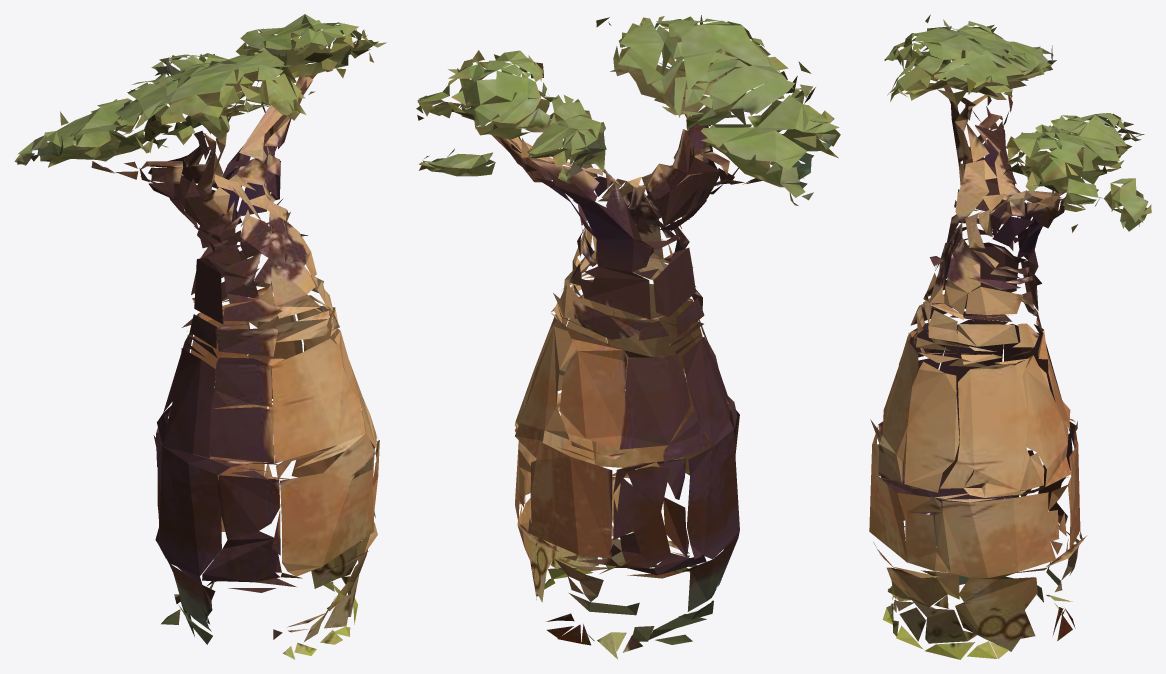
The model's file is tree_baobab.glb.
The picture shows the model from 3 angles, left to right: view 1: azimuth 30°, elevation 25°; view 2: azimuth 150°, elevation 25°; view 3: azimuth 270°, elevation 25°; orthographic projection. The views are drawn at different scales.
Parts seen in each view (by area): view 1: geometry_0; view 2: geometry_0; view 3: geometry_0.
Part boxes in pixels (left/top/right/bottom): geometry_0: left=14, top=14, right=386, bottom=659; geometry_0: left=416, top=15, right=840, bottom=659; geometry_0: left=869, top=14, right=1151, bottom=659.
Bounding box in the file's own units: 1.33 × 2 × 0.904.
1 material, 1 textured.
